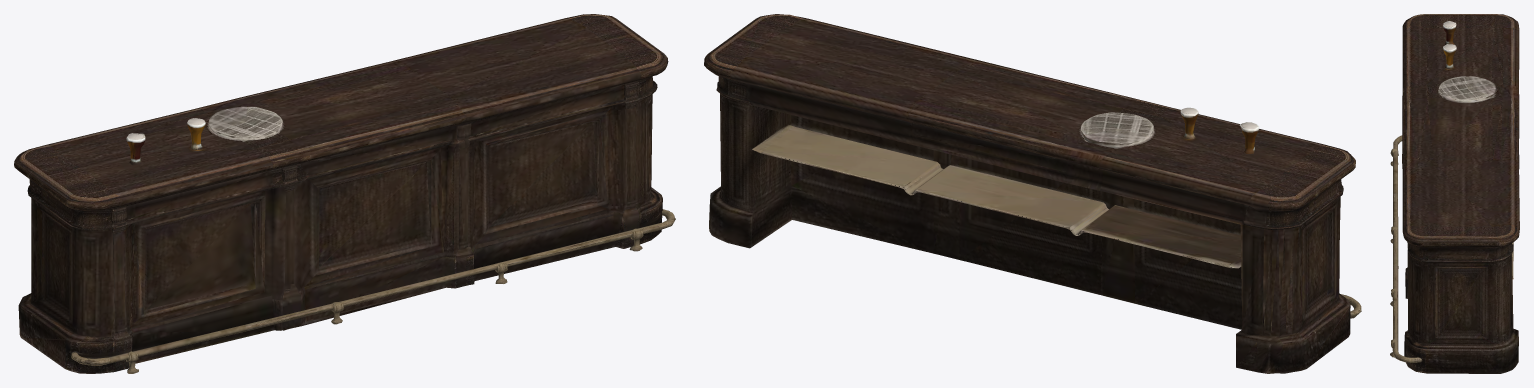
The model's file is pub_bar_counter.glb.
3 renders of one model, left to right at view 1: azimuth 30°, elevation 25°; view 2: azimuth 150°, elevation 25°; view 3: azimuth 270°, elevation 25°, orthographic. The views are drawn at different scales.
Size of the model in its own units: 4 by 1.3 by 0.9674.
Materials: 1 (1 with a texture image).
